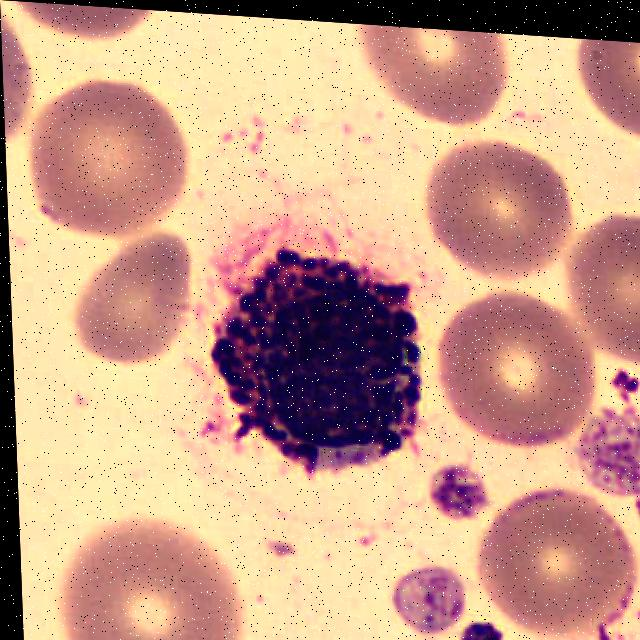basophil: (205, 243, 436, 515)
platelets: (572, 414, 640, 500), (393, 561, 462, 635), (428, 464, 493, 531), (453, 622, 507, 640)
rbc: (417, 132, 586, 317), (11, 83, 201, 246), (60, 220, 207, 396), (475, 486, 640, 640), (432, 303, 591, 452), (53, 524, 255, 640), (337, 23, 543, 130), (558, 222, 640, 357), (551, 37, 640, 161), (11, 1, 162, 58), (1, 13, 33, 169)
